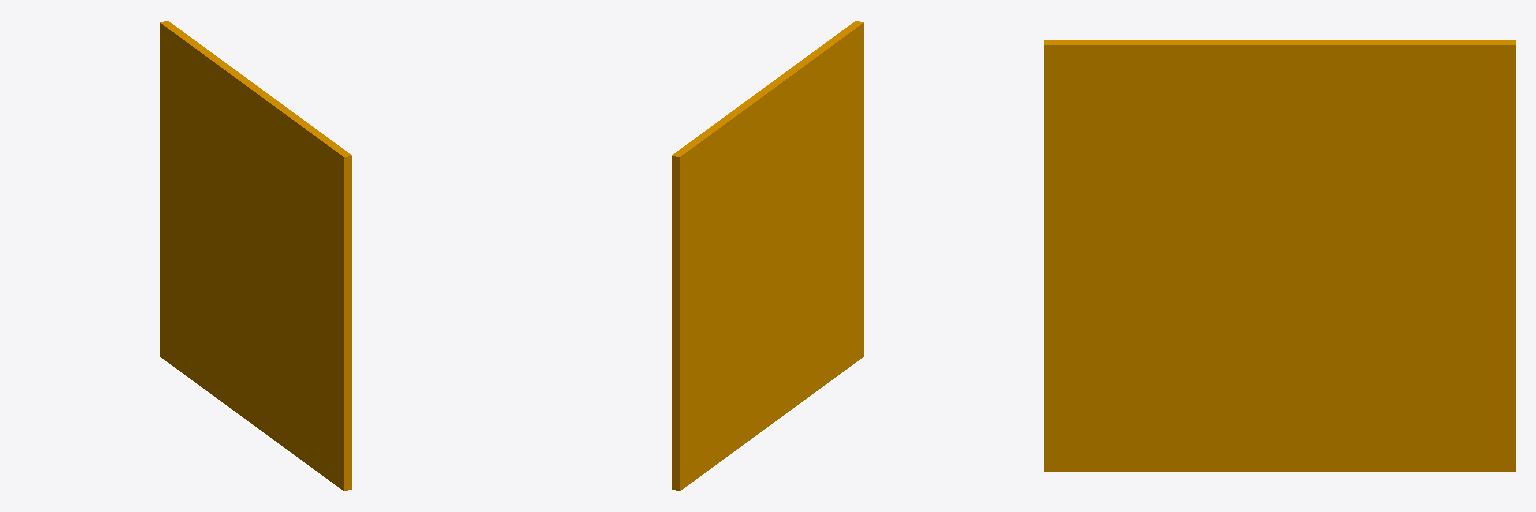
URDF robot description (box):
<?xml version="1.0"?>
<robot name="box">
  <link name="box">
    <inertial>
      <mass value="1"/>
      <inertia ixx="0.01" ixy="0" ixz="0" iyy="0.01" iyz="0" izz="0.01"/>
    </inertial>
    <visual>
      <geometry>
        <box size="0.05 2 2"/>
      </geometry>
    </visual>
    <collision>
      <geometry>
        <box size="0.05 2 2"/>
      </geometry>
    </collision>
  </link>
</robot> 

--- What the picture shows (computed from the rendered views, not written in the file) ---
The picture shows the robot from 3 angles, left to right: view 1: azimuth 30°, elevation 25°; view 2: azimuth 150°, elevation 25°; view 3: azimuth 270°, elevation 25°; orthographic projection.
Model box with 1 links and 0 joints (none), rooted at box, posed all joints at 0.
Links seen in each view (by area): view 1: box; view 2: box; view 3: box.
Boxes of the visible links, bbox=[...] form: box: bbox=[160, 21, 351, 490]; box: bbox=[672, 21, 863, 490]; box: bbox=[1044, 40, 1515, 471].
Bounding box of the posed robot: 0.05 × 2 × 2 m (x, y, z).
Geometry: primitives only (box / cylinder / sphere), no mesh files.
